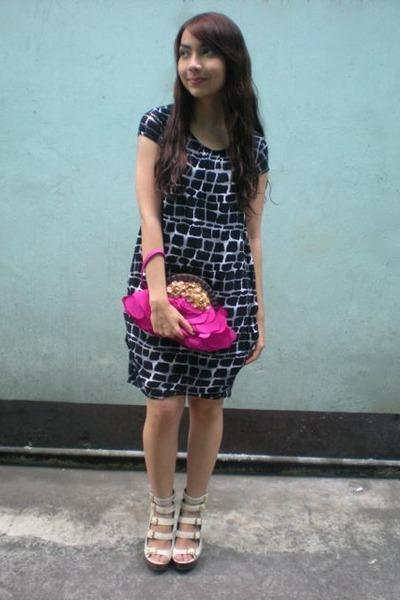bag: (122, 271, 247, 351)
dress: (125, 98, 268, 402)
shoe: (144, 504, 217, 563)
